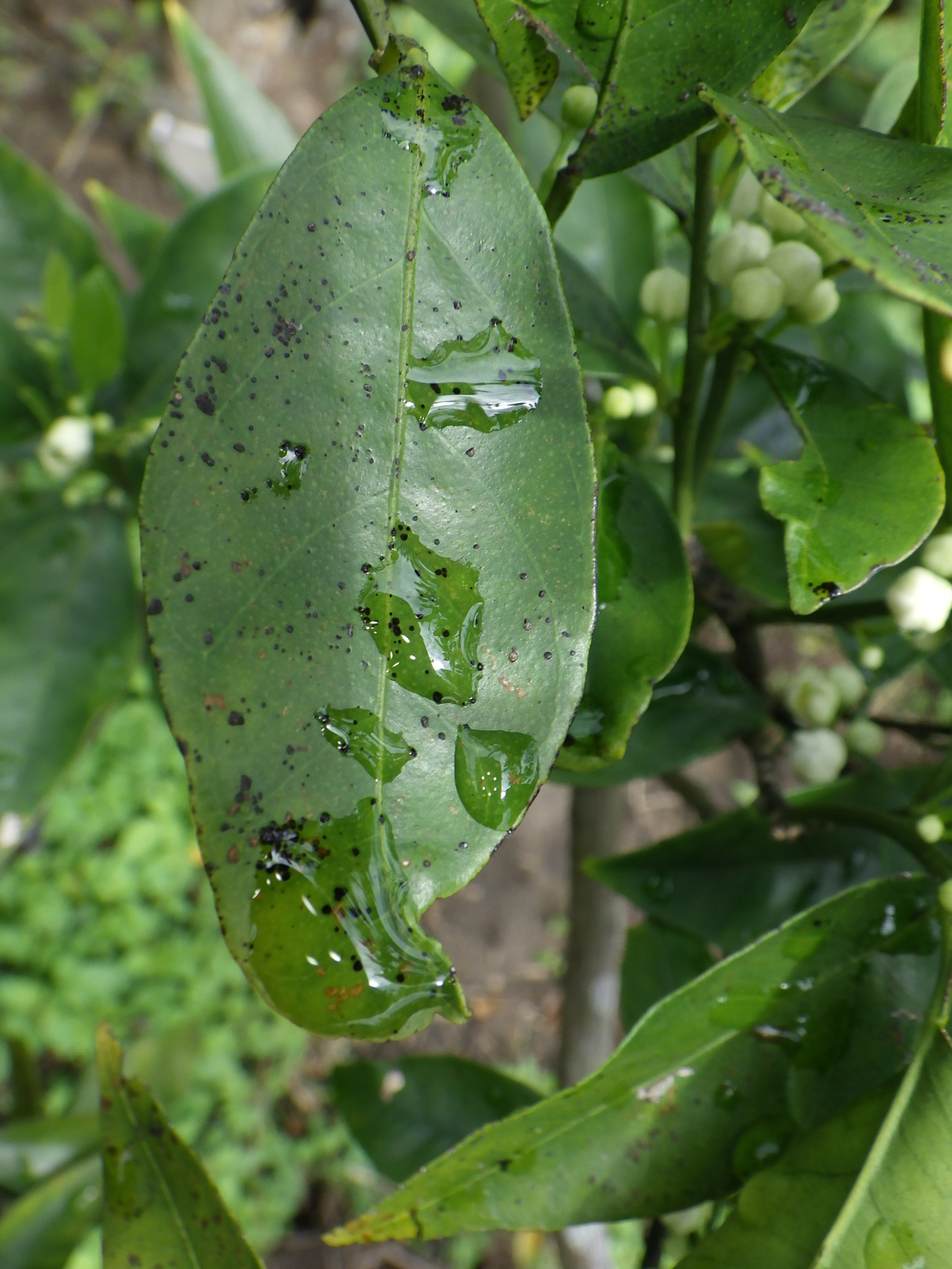Oily_Spot: (141, 44, 594, 1037)
